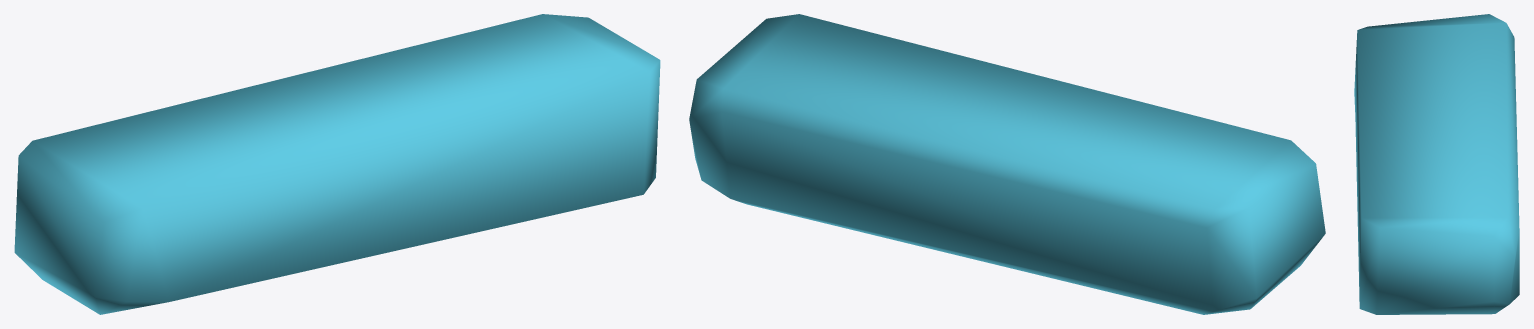
File: stone brick_03.FBX
The picture shows the model from 3 angles, left to right: view 1: azimuth 30°, elevation 25°; view 2: azimuth 150°, elevation 25°; view 3: azimuth 270°, elevation 25°; orthographic projection. The views are drawn at different scales.
Visible parts, largest first — view 1: stone brick_03; view 2: stone brick_03; view 3: stone brick_03.
Boxes of the visible parts, x1,y1,x2,y2 form: stone brick_03: (14, 14, 660, 314); stone brick_03: (689, 14, 1325, 314); stone brick_03: (1354, 14, 1519, 314).
Bounding box in the file's own units: 37.24 × 7.85 × 11.72.
